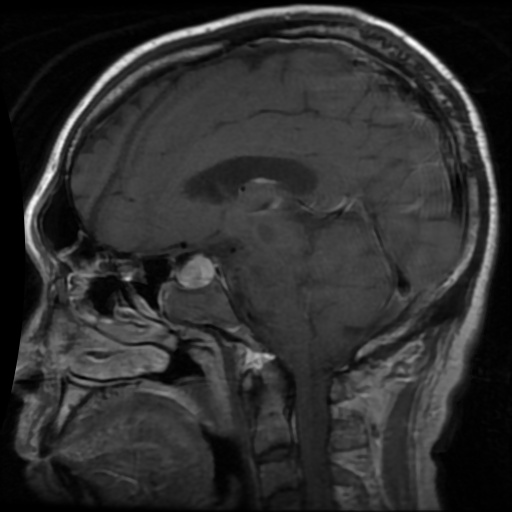pituitary: (177, 258, 212, 286)
